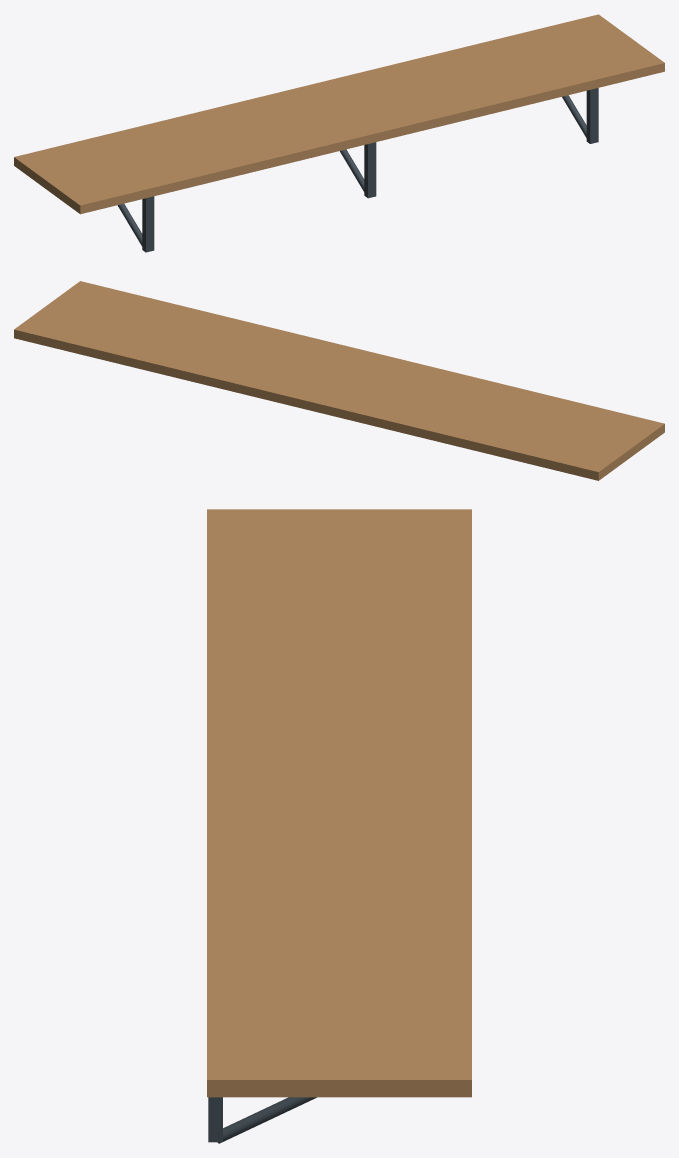
Rendered from windowBar-2.glb.
The picture shows the model from 3 angles, top to bottom: view 1: azimuth 30°, elevation 25°; view 2: azimuth 150°, elevation 25°; view 3: azimuth 270°, elevation 25°; orthographic projection. The views are drawn at different scales.
Parts seen in each view (by area): view 1: windowBar:2:editor; view 2: windowBar:2:editor; view 3: windowBar:2:editor.
Part boxes in pixels (bbox=[...]): windowBar:2:editor: bbox=[14, 14, 664, 252]; windowBar:2:editor: bbox=[14, 281, 664, 480]; windowBar:2:editor: bbox=[207, 509, 471, 1143].
Size of the model in its own units: 2.8 by 0.3024 by 0.55.
